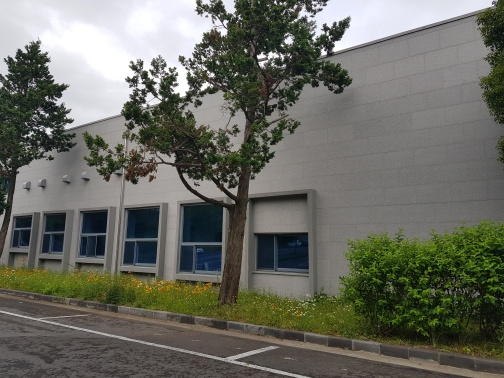College of Social Sciences: (5, 60, 483, 336), (11, 189, 177, 284)
